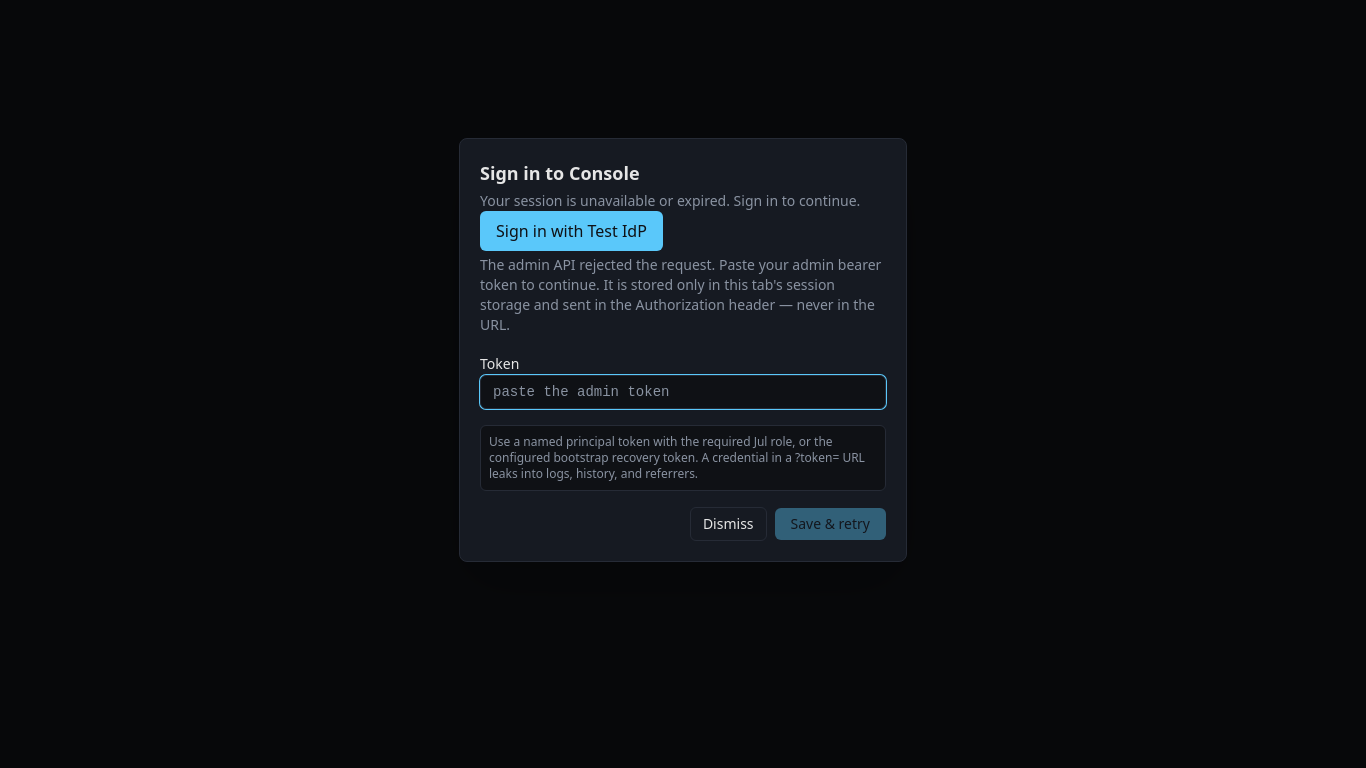
Test: handles refusal during local-token switching
The width and height of the screenshot is (1366, 768).
Check: the button "Sign in with Test IdP" is shown, box left=480, top=211, right=663, bottom=251
Type "recovery-token" into the password field labelled "Token" at (683, 392), box left=480, top=375, right=886, bottom=409
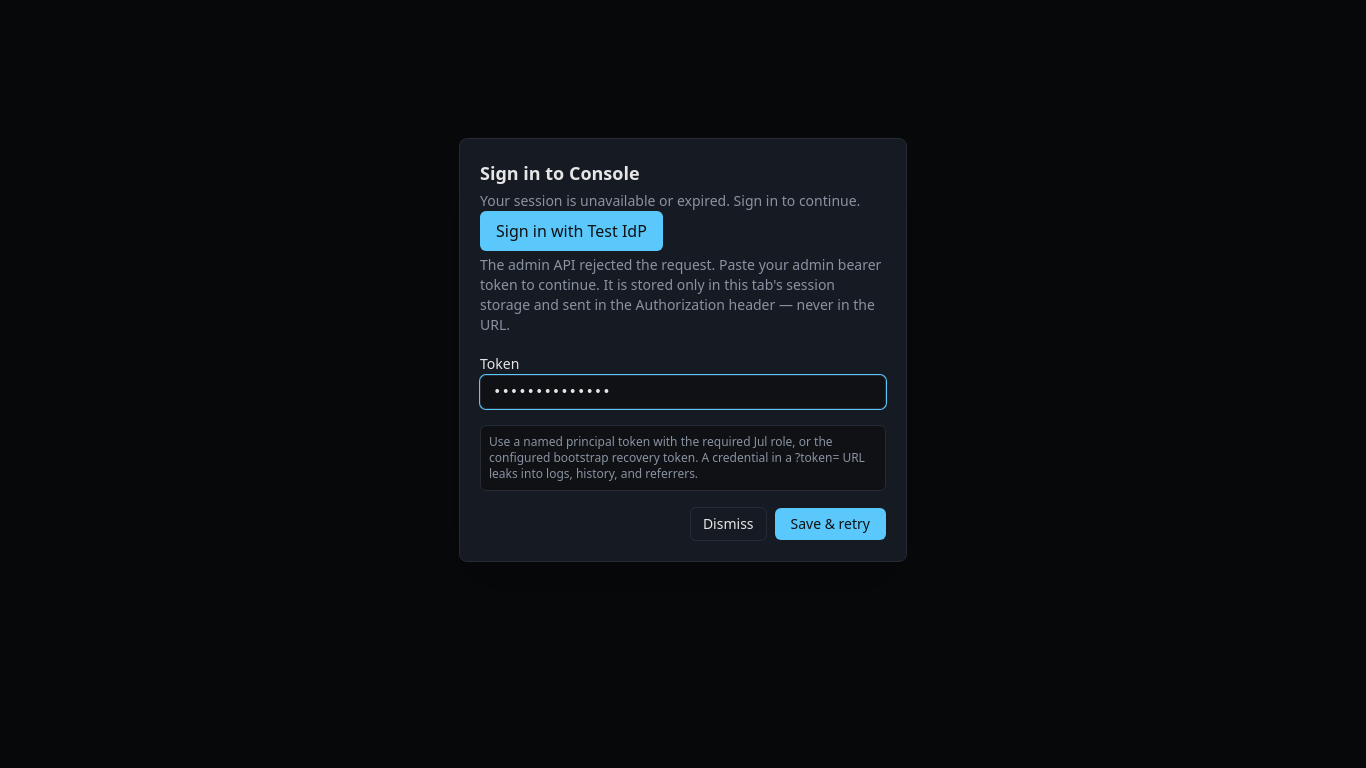
Press Enter in the password field labelled "Token", box left=480, top=375, right=886, bottom=409
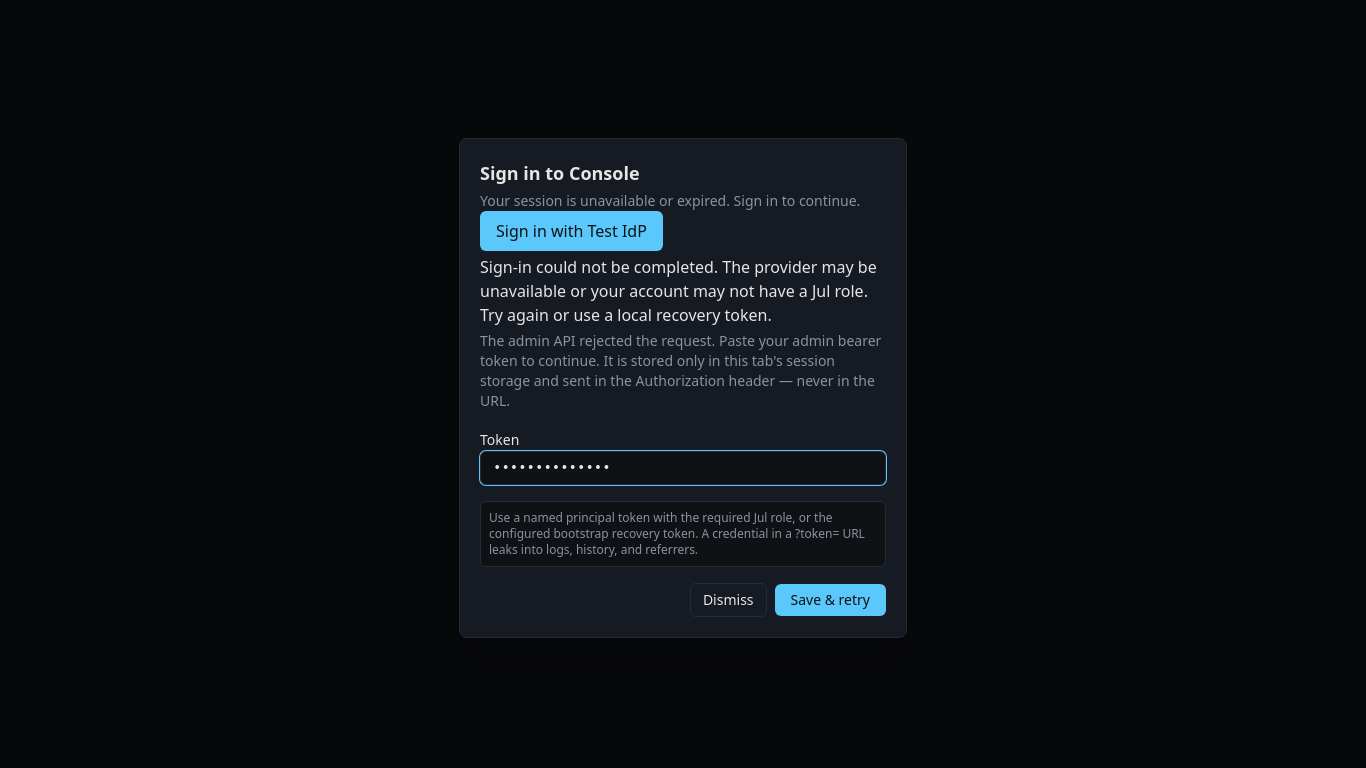
Check: the message is shown, box left=480, top=255, right=886, bottom=327
